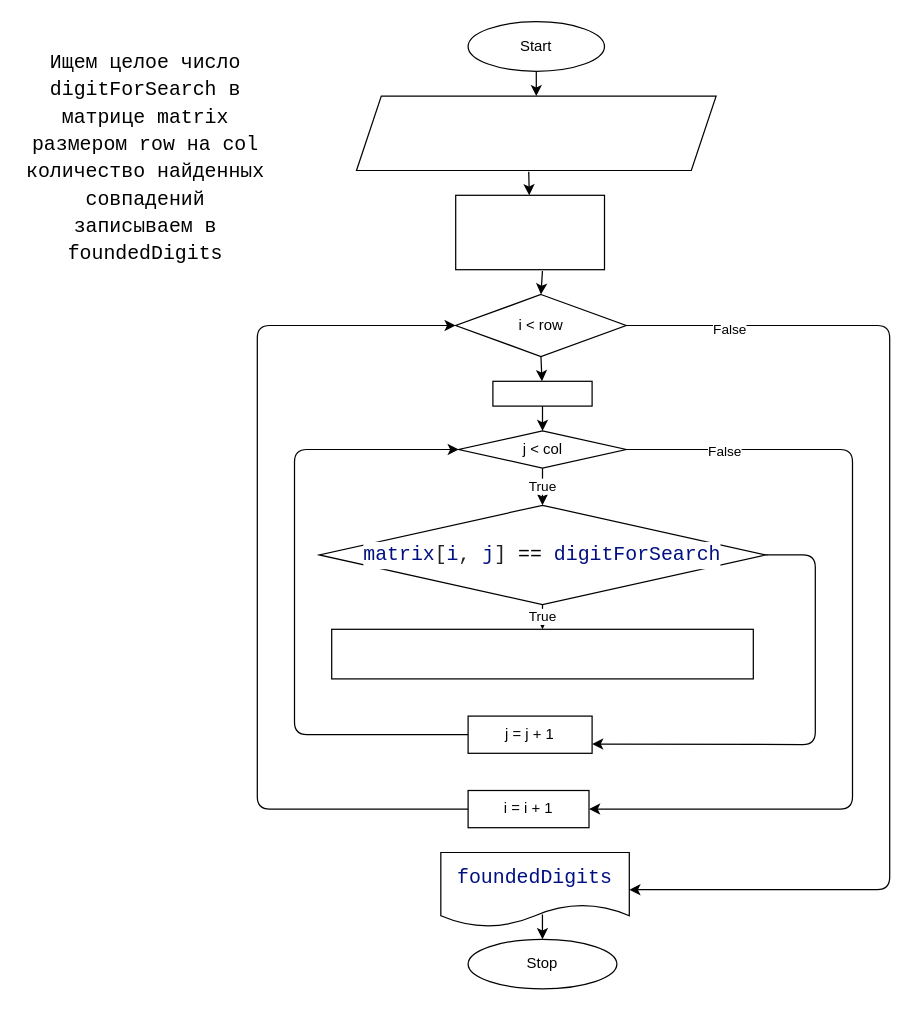
Some shapes in this 921 by 1011 pixel diagram are drawn without their labels. The centre of each missing label's shape, as x and y in pixels:
foundedDigits = foundedDigits + 1: (541,653)
i = 0: (529,232)
j = 0: (542,393)
row col foundedDigits matrix: (535,132)
